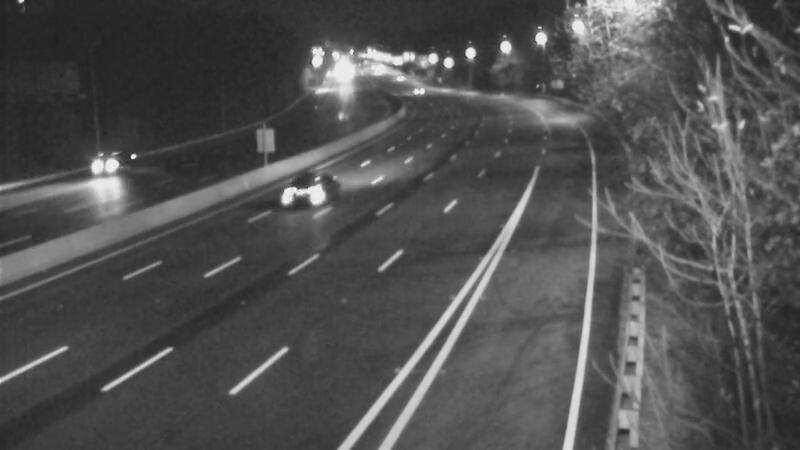vehicle: (269, 159, 349, 239), (63, 125, 143, 205), (392, 64, 442, 114)
